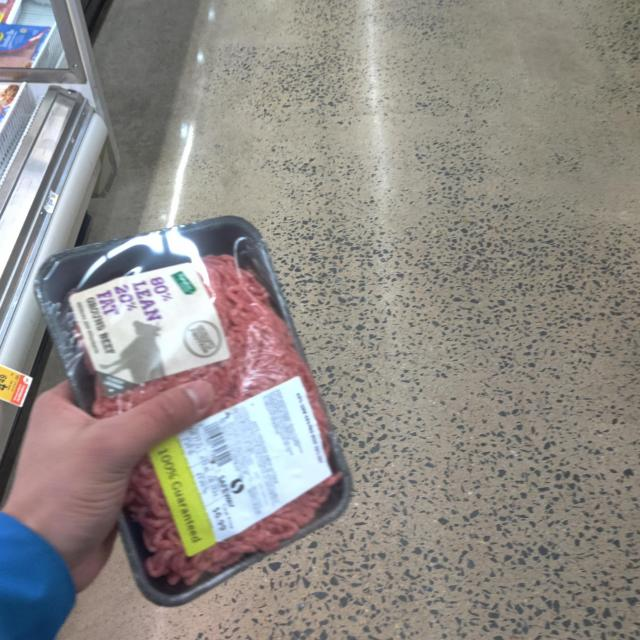Meat: (37, 213, 350, 602)
